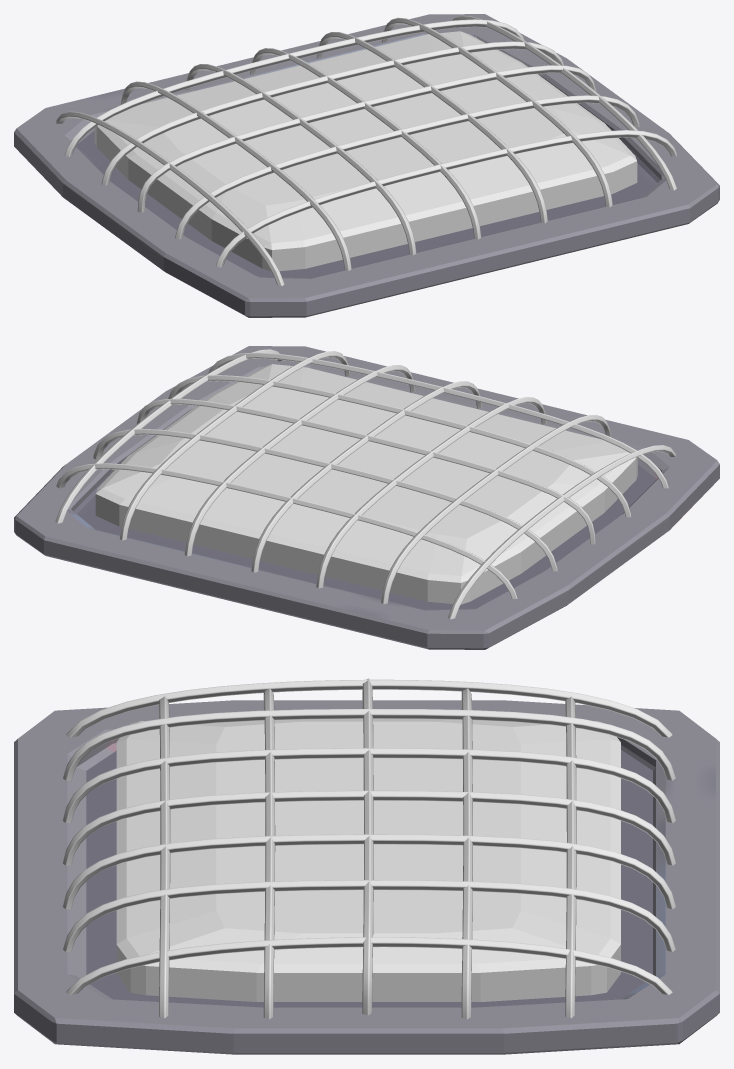
The model's file is Lamp(2_2).fbx.
The picture shows the model from 3 angles, top to bottom: view 1: azimuth 30°, elevation 25°; view 2: azimuth 150°, elevation 25°; view 3: azimuth 270°, elevation 25°; orthographic projection. The views are drawn at different scales.
Parts seen in each view (by area): view 1: Plane.001, Plane.082, BezierCurve, BezierCurve.002, BezierCurve.011, BezierCurve.001, BezierCurve.010, BezierCurve.007, BezierCurve.005, BezierCurve.006, BezierCurve.004, BezierCurve.003 (+2 smaller); view 2: Plane.001, Plane.082, BezierCurve.001, BezierCurve, BezierCurve.010, BezierCurve.002, BezierCurve.011, BezierCurve.007, BezierCurve.005, BezierCurve.004, BezierCurve.006, BezierCurve.003 (+2 smaller); view 3: Plane.001, Plane.082, BezierCurve.005, BezierCurve.004, BezierCurve.006, BezierCurve.007, BezierCurve.003, BezierCurve.009, BezierCurve.008, BezierCurve, BezierCurve.002, BezierCurve.001 (+2 smaller).
Boxes of the visible parts, box(x1,y1,x2,y2) form: Plane.001: box(94, 31, 637, 271); Plane.082: box(14, 14, 719, 317); BezierCurve: box(137, 65, 596, 212); BezierCurve.002: box(175, 95, 639, 239); BezierCurve.011: box(216, 130, 676, 267); BezierCurve.001: box(101, 41, 564, 185); BezierCurve.010: box(64, 19, 524, 156); BezierCurve.007: box(120, 81, 351, 270); BezierCurve.005: box(185, 64, 416, 255); BezierCurve.006: box(381, 17, 612, 207); BezierCurve.004: box(316, 32, 547, 223); BezierCurve.003: box(250, 48, 481, 239); Plane.001: box(95, 364, 637, 604); Plane.082: box(14, 346, 719, 649); BezierCurve.001: box(93, 429, 557, 571); BezierCurve: box(136, 398, 595, 544); BezierCurve.010: box(56, 463, 517, 598); BezierCurve.002: box(168, 375, 630, 517); BezierCurve.011: box(208, 352, 668, 488); BezierCurve.007: box(380, 414, 611, 604); BezierCurve.005: box(316, 397, 546, 588); BezierCurve.004: box(184, 365, 415, 556); BezierCurve.006: box(119, 351, 350, 540); BezierCurve.003: box(251, 381, 482, 572); Plane.001: box(116, 718, 620, 1001); Plane.082: box(14, 700, 719, 1054); BezierCurve.005: box(62, 748, 675, 823); BezierCurve.004: box(62, 834, 675, 909); BezierCurve.006: box(63, 880, 675, 952); BezierCurve.007: box(63, 709, 675, 780); BezierCurve.003: box(62, 790, 675, 865); BezierCurve.009: box(66, 679, 672, 737); BezierCurve.008: box(66, 937, 672, 994); BezierCurve: box(362, 678, 373, 1015); BezierCurve.002: box(263, 688, 275, 1019); BezierCurve.001: box(461, 688, 472, 1019).
Bounding box in the file's own units: 77.48 × 10.8 × 69.67.
